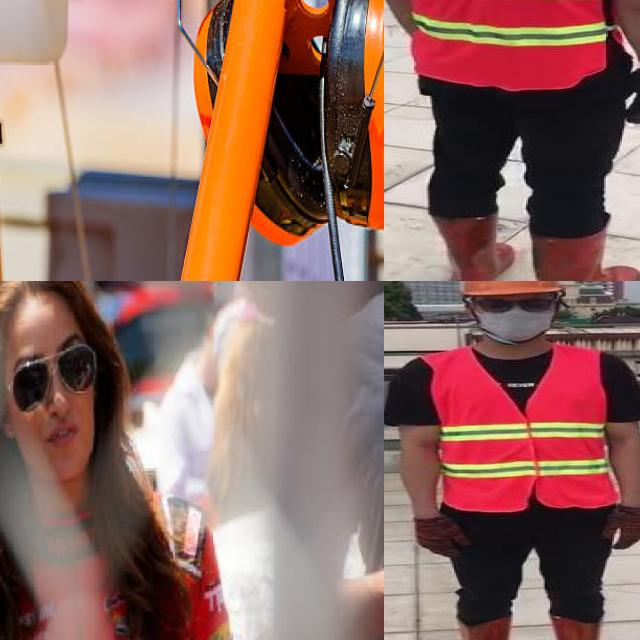Ear-protection: (155, 0, 384, 247)
boots: (426, 212, 513, 281), (527, 230, 640, 281), (553, 615, 628, 640), (455, 616, 509, 640)
face_mask: (472, 292, 557, 341)
face_nomask: (11, 354, 104, 451)
glasses: (9, 345, 101, 412), (473, 294, 559, 316)
hand_glove: (409, 514, 474, 560), (605, 506, 640, 549), (622, 71, 640, 125)
head_helmet: (457, 281, 569, 298)
head_nohelmet: (0, 281, 95, 335)
person: (384, 281, 640, 640), (0, 281, 229, 640), (384, 0, 640, 281)
vest: (426, 351, 610, 510), (384, 0, 618, 91)
